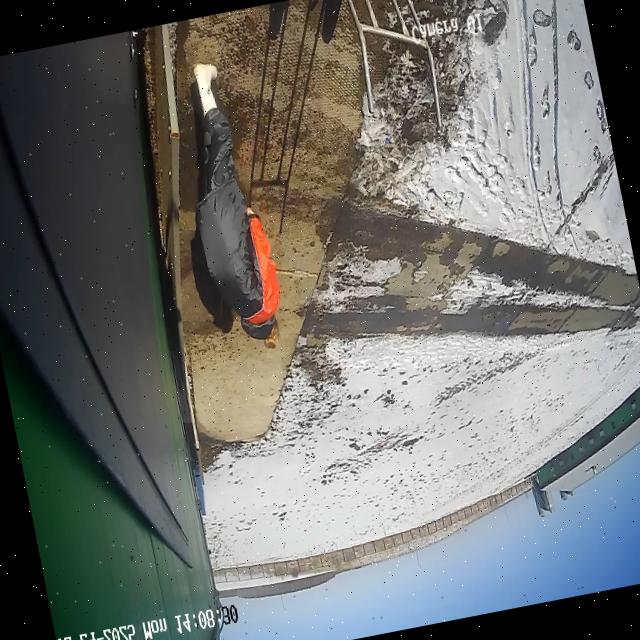Red uniform: (164, 54, 293, 360)
